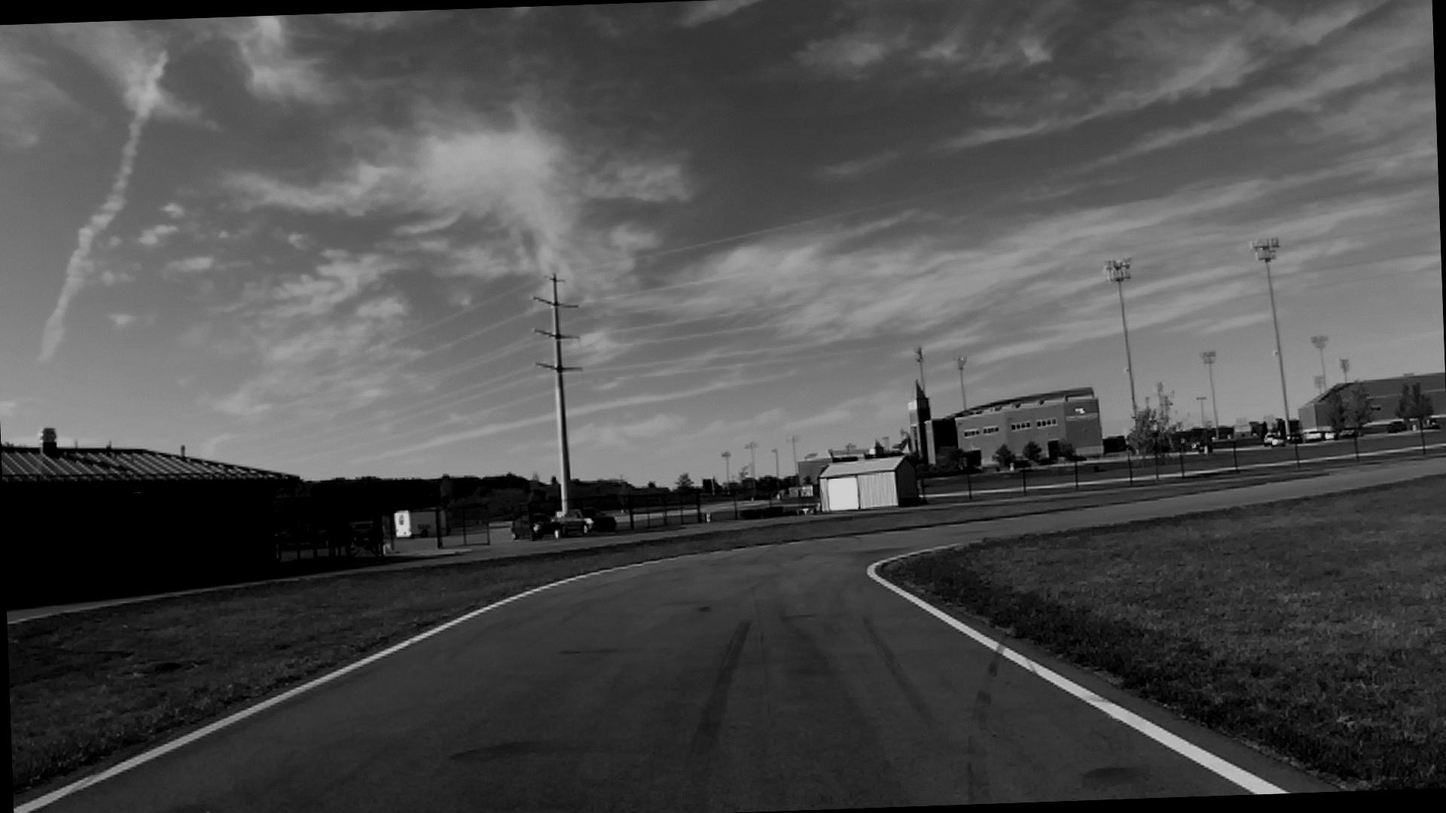white-line: (14, 545, 762, 813), (867, 549, 1294, 795)
